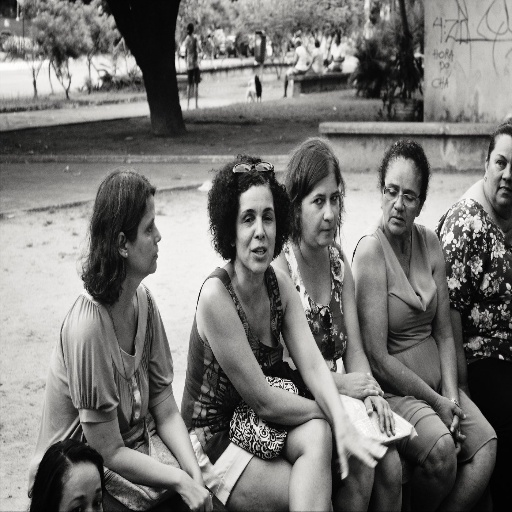hand: (331, 413, 387, 480), (174, 469, 213, 510), (435, 394, 467, 441), (363, 391, 395, 436), (343, 370, 384, 398), (448, 414, 461, 454), (333, 446, 340, 477), (192, 474, 205, 487), (459, 385, 469, 396)
